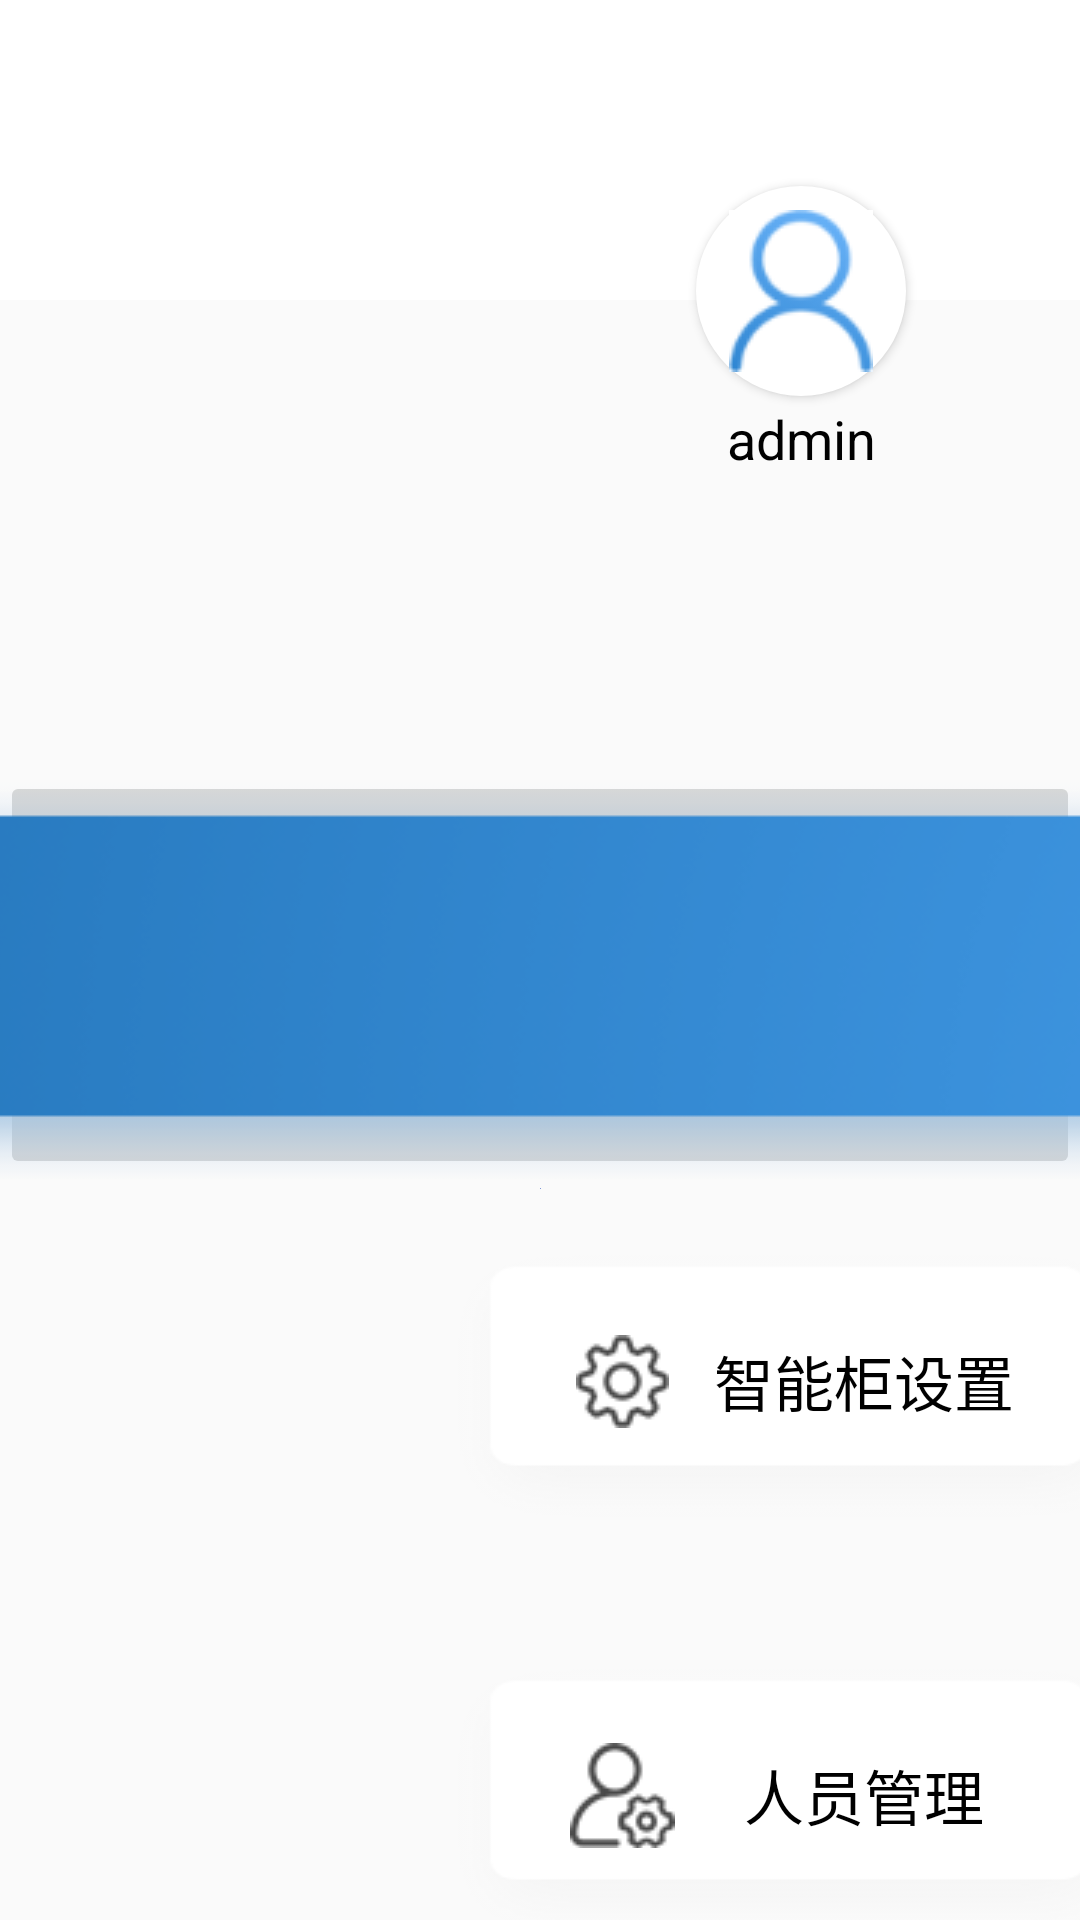

Named icons in this screenshot (1080*1920) and their bounding boxes, box(x1, y1, x2, y2):
person: box(729, 210, 906, 396)
